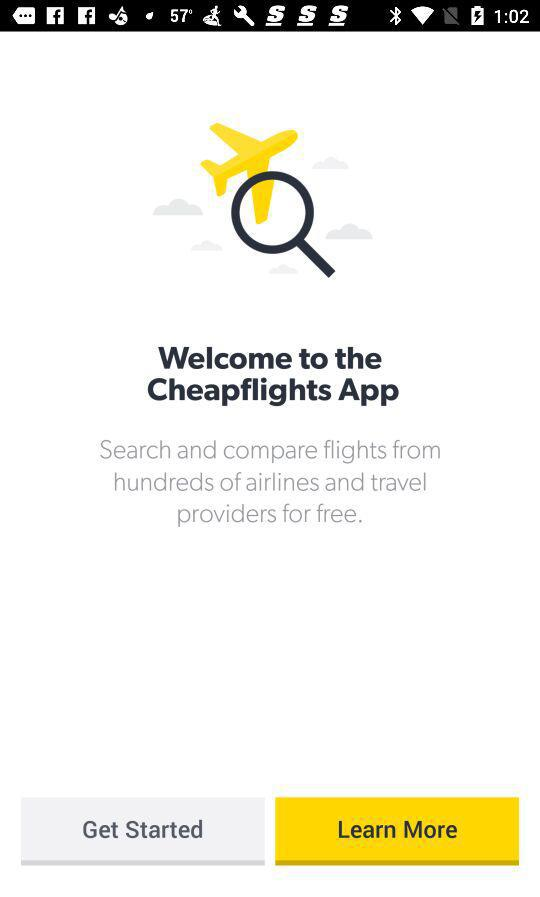Image: (152, 122, 374, 281)
Text: (100, 439, 441, 528), (148, 347, 400, 408)
TextButton: (276, 796, 520, 865), (21, 798, 266, 866)
UpperTaskBar: (1, 1, 540, 33)
